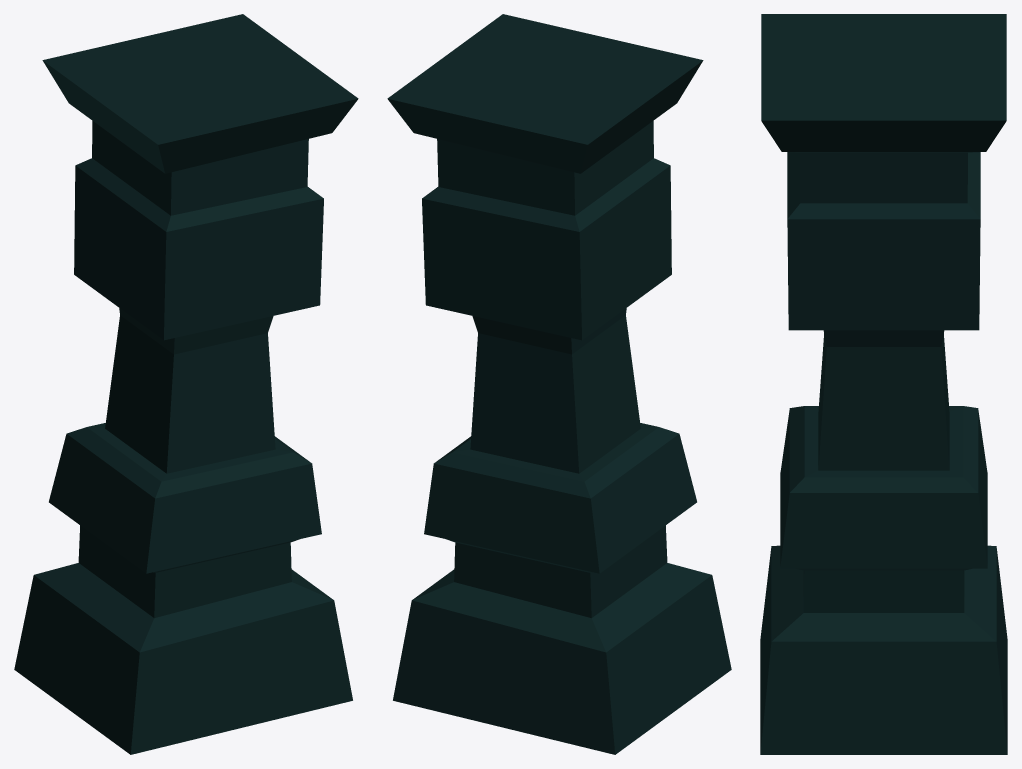
The model's file is column021_stone_0_lev1.glb.
The picture shows the model from 3 angles, left to right: view 1: azimuth 30°, elevation 25°; view 2: azimuth 150°, elevation 25°; view 3: azimuth 270°, elevation 25°; orthographic projection. The views are drawn at different scales.
Parts seen in each view (by area): view 1: column021_stone_0_lev1; view 2: column021_stone_0_lev1; view 3: column021_stone_0_lev1.
Part boxes in pixels (x1=…): column021_stone_0_lev1: x1=14, y1=14, x2=358, y2=754; column021_stone_0_lev1: x1=387, y1=14, x2=731, y2=754; column021_stone_0_lev1: x1=760, y1=14, x2=1007, y2=754.
Bounding box in the file's own units: 0.6239 × 1.57 × 0.551.
